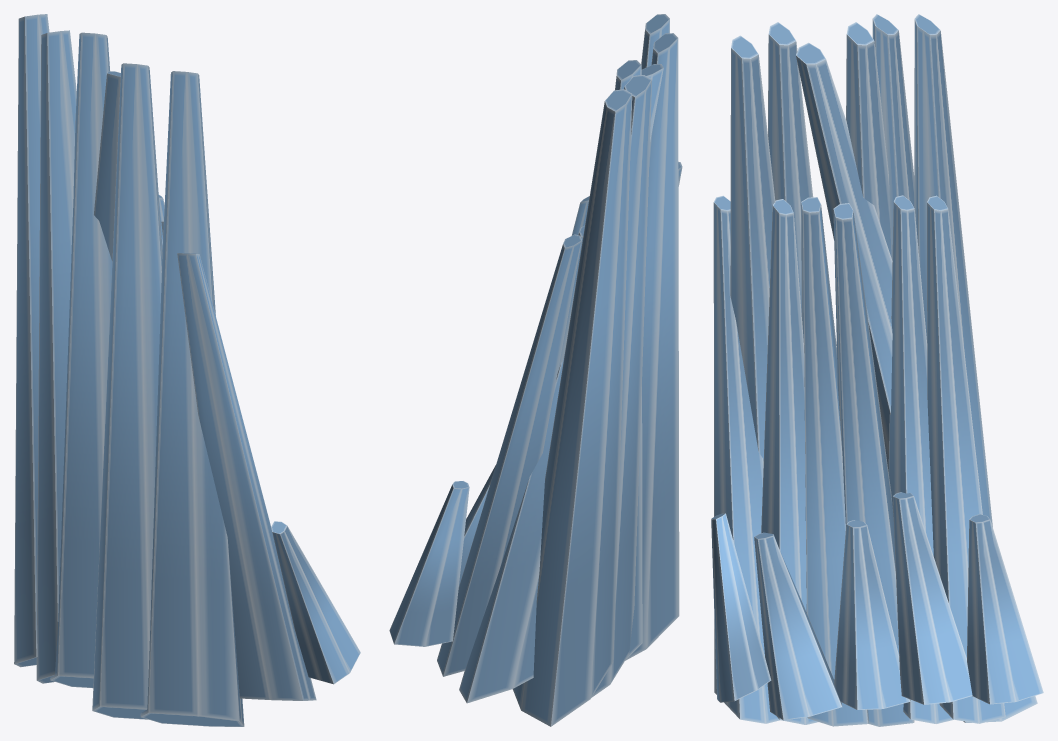
Rendered from wall_spike_01.fbx.
3 views of the same model, side by side, from view 1: azimuth 30°, elevation 25°; view 2: azimuth 150°, elevation 25°; view 3: azimuth 270°, elevation 25° (orthographic). The views are drawn at different scales.
Parts seen in each view (by area): view 1: wall_spike_01; view 2: wall_spike_01; view 3: wall_spike_01.
Part boxes in pixels (x1,y1,x2,y2): wall_spike_01: [14, 14, 360, 726]; wall_spike_01: [389, 14, 682, 726]; wall_spike_01: [711, 14, 1043, 726].
Size of the model in its own units: 0.9446 by 2.66 by 1.23.
1 material, 1 textured.
